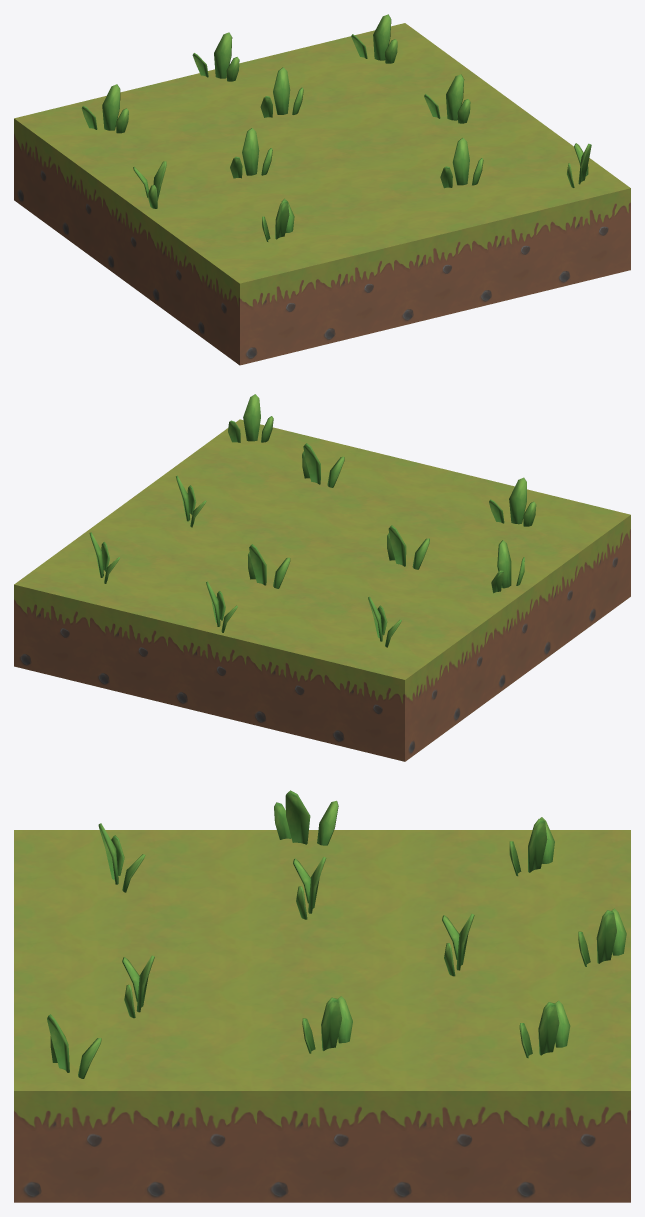
Rendered from floor.dae.
3 renders of one model, top to bottom at view 1: azimuth 30°, elevation 25°; view 2: azimuth 150°, elevation 25°; view 3: azimuth 270°, elevation 25°, orthographic. The views are drawn at different scales.
Parts seen in each view (by area): view 1: terrain, grass; view 2: terrain, grass; view 3: terrain, grass.
Part boxes in pixels (x1,y1,x2,y2): terrain: (14,23,630,365); grass: (81,14,591,241); terrain: (14,419,630,761); grass: (89,394,536,647); terrain: (14,830,630,1202); grass: (47,790,626,1078).
Size of what is drawn, in the model's own units: 5 by 5 by 1.51.
Materials: 3 (3 with a texture image).
